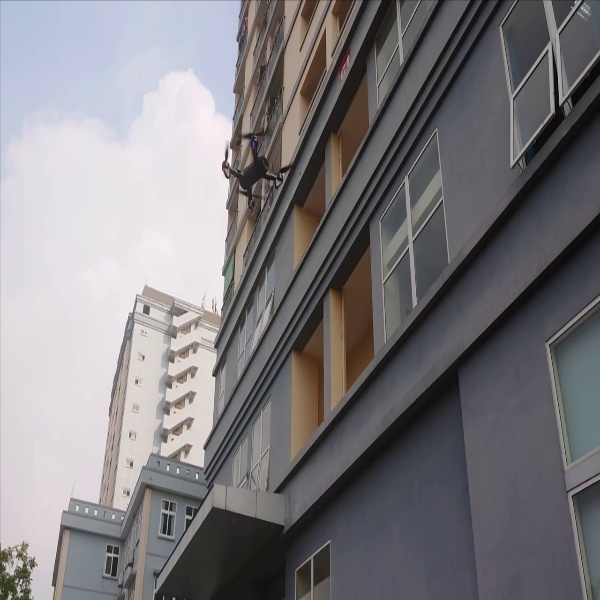drone: (217, 124, 301, 214)
